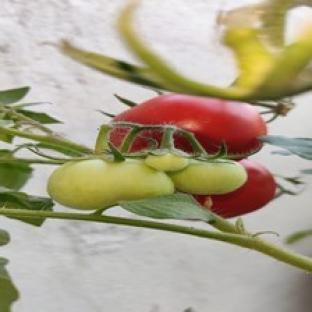Tomato: (113, 94, 267, 155), (48, 159, 174, 210), (194, 159, 275, 217), (168, 159, 246, 194), (145, 154, 189, 171)
